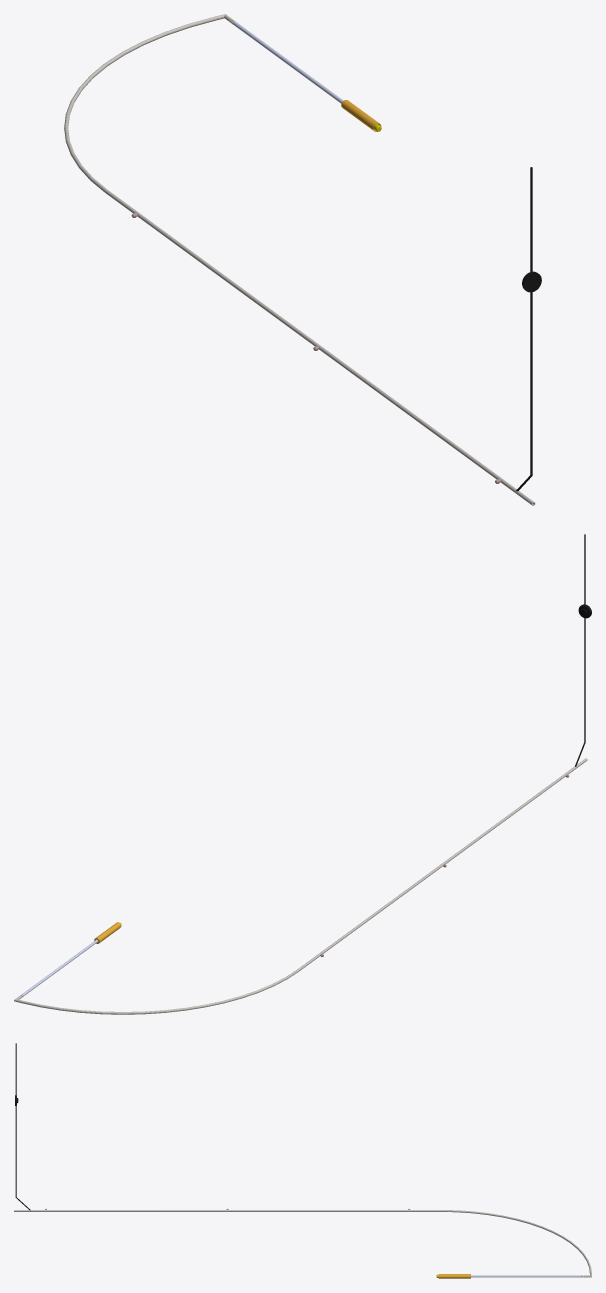
The model's file is PINGO.glb.
3 views of the same model, one above another, from view 1: azimuth 30°, elevation 25°; view 2: azimuth 150°, elevation 25°; view 3: azimuth 270°, elevation 25° (orthographic). The views are drawn at different scales.
Parts seen in each view (by area): view 1: FAB - ESTRUTURA CURVADA - PINGO:1 (C-FAB - ESTRUTURA CURVADA, 05080014 - CORDAO DE FORCA PRETO C INTERRUPTOR DE PISO:1 (C-; view 2: FAB - ESTRUTURA CURVADA - PINGO:1 (C-FAB - ESTRUTURA CURVADA; view 3: FAB - ESTRUTURA CURVADA - PINGO:1 (C-FAB - ESTRUTURA CURVADA, 05080014 - CORDAO DE FORCA PRETO C INTERRUPTOR DE PISO:1 (C-, FAB - HASTE ILUMINADA - 675MM - PINGO:1 (C-FAB - HASTE ILUMI.
Part boxes in pixels (box(x1,y1,x2,y2)): FAB - ESTRUTURA CURVADA - PINGO:1 (C-FAB - ESTRUTURA CURVADA: box(64, 14, 535, 505); 05080014 - CORDAO DE FORCA PRETO C INTERRUPTOR DE PISO:1 (C-: box(516, 167, 541, 491); FAB - ESTRUTURA CURVADA - PINGO:1 (C-FAB - ESTRUTURA CURVADA: box(14, 758, 587, 1014); FAB - ESTRUTURA CURVADA - PINGO:1 (C-FAB - ESTRUTURA CURVADA: box(14, 1210, 591, 1275); 05080014 - CORDAO DE FORCA PRETO C INTERRUPTOR DE PISO:1 (C-: box(15, 1043, 30, 1210); FAB - HASTE ILUMINADA - 675MM - PINGO:1 (C-FAB - HASTE ILUMI: box(474, 1275, 580, 1277).
Bounding box in the file's own units: 0.7613 × 0.876 × 2.7.
